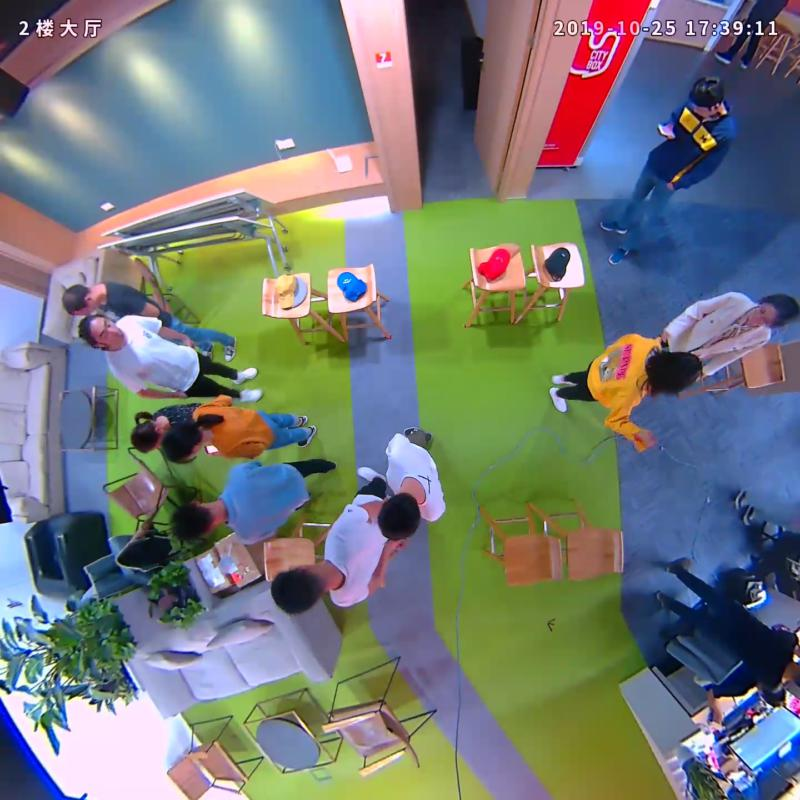head: (271, 563, 327, 616), (653, 351, 703, 395), (377, 493, 421, 542), (161, 422, 206, 465), (171, 501, 219, 541), (747, 294, 800, 329), (78, 315, 127, 351), (689, 75, 723, 118), (61, 282, 100, 317), (129, 418, 164, 454)
